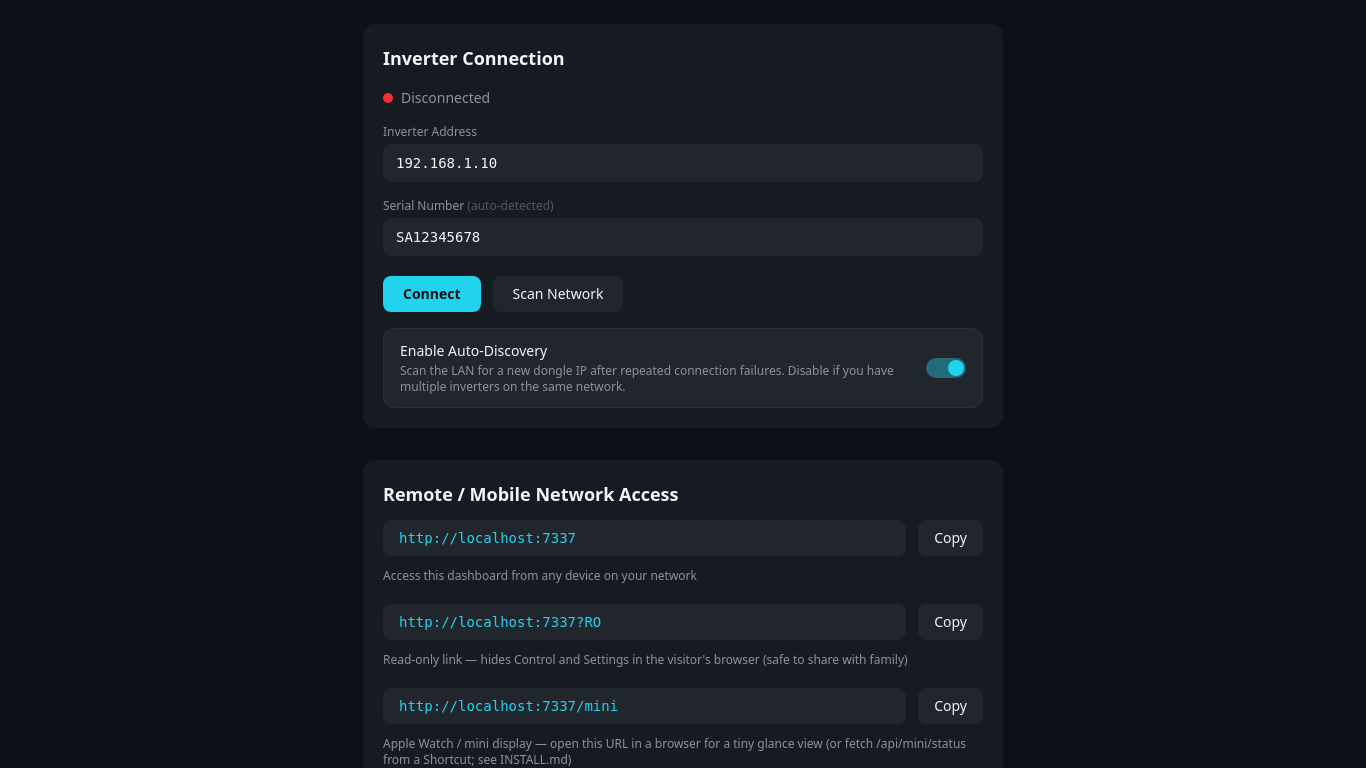
<SettingsPage/> — save handlers & validation › auto-discovery toggle — optimistic persist › persists the new auto-discovery value and flashes success
Click to turn it OFF → disable_auto_discovery: true.
Click the switch named "Enable Auto-Discovery". click: point(946, 368)
box: [926, 358, 966, 378]
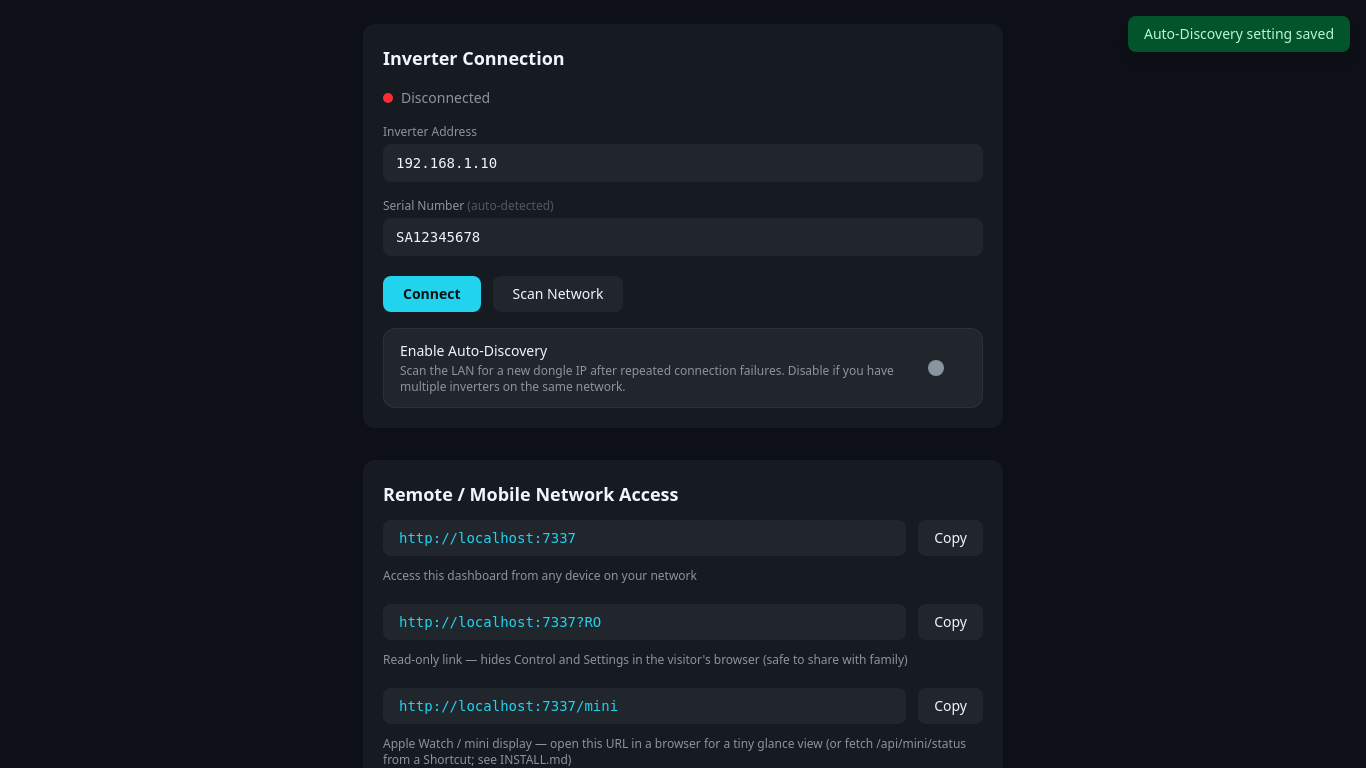
expect the text "Auto-Discovery setting saved" is shown: met, box [1128, 16, 1350, 52]
